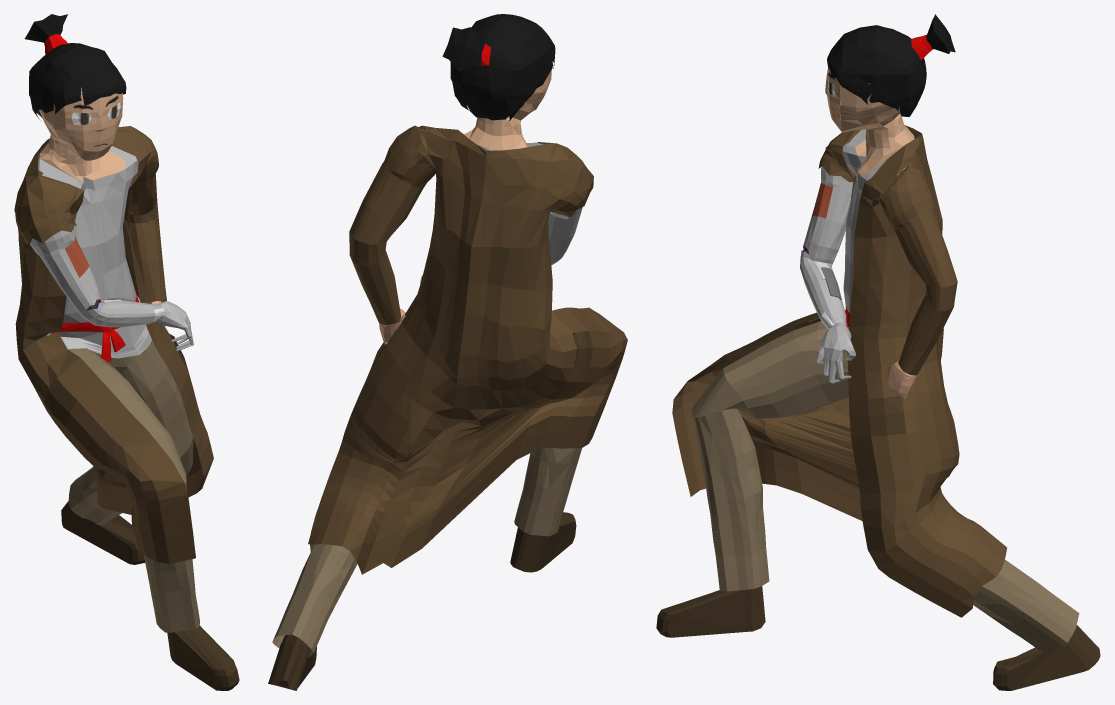
File: One_RL_000021.obj
The picture shows the model from 3 angles, left to right: view 1: azimuth 30°, elevation 25°; view 2: azimuth 150°, elevation 25°; view 3: azimuth 270°, elevation 25°; orthographic projection. The views are drawn at different scales.
Parts seen in each view (by area): view 1: Hair_Cube.004; view 2: Hair_Cube.004; view 3: Hair_Cube.004.
Part boxes in pixels (x1=…): Hair_Cube.004: x1=14, y1=14, x2=239, y2=690; Hair_Cube.004: x1=268, y1=14, x2=627, y2=690; Hair_Cube.004: x1=656, y1=14, x2=1100, y2=690.
Bounding box in the file's own units: 1.25 × 3.44 × 2.27.
